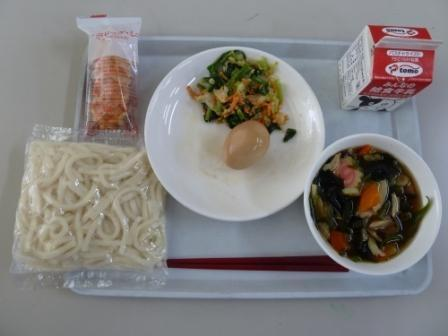Milk: (333, 12, 445, 119)
Salad: (194, 46, 292, 125)
Soups: (304, 135, 439, 271)
Udon: (17, 123, 163, 287)
boiled eggs: (220, 122, 271, 173)
pastry: (66, 20, 146, 133)
